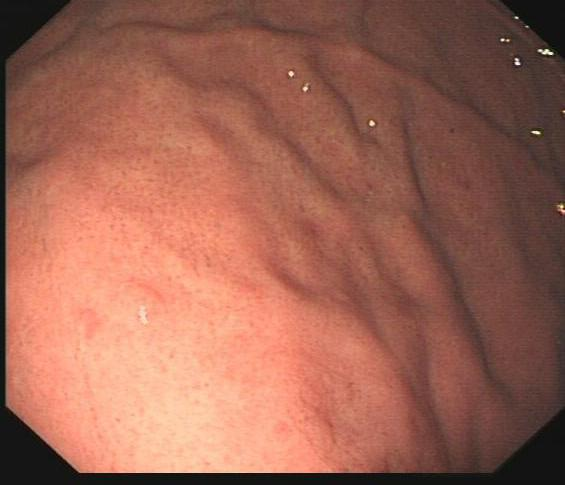Polyp: (105, 275, 171, 336)
